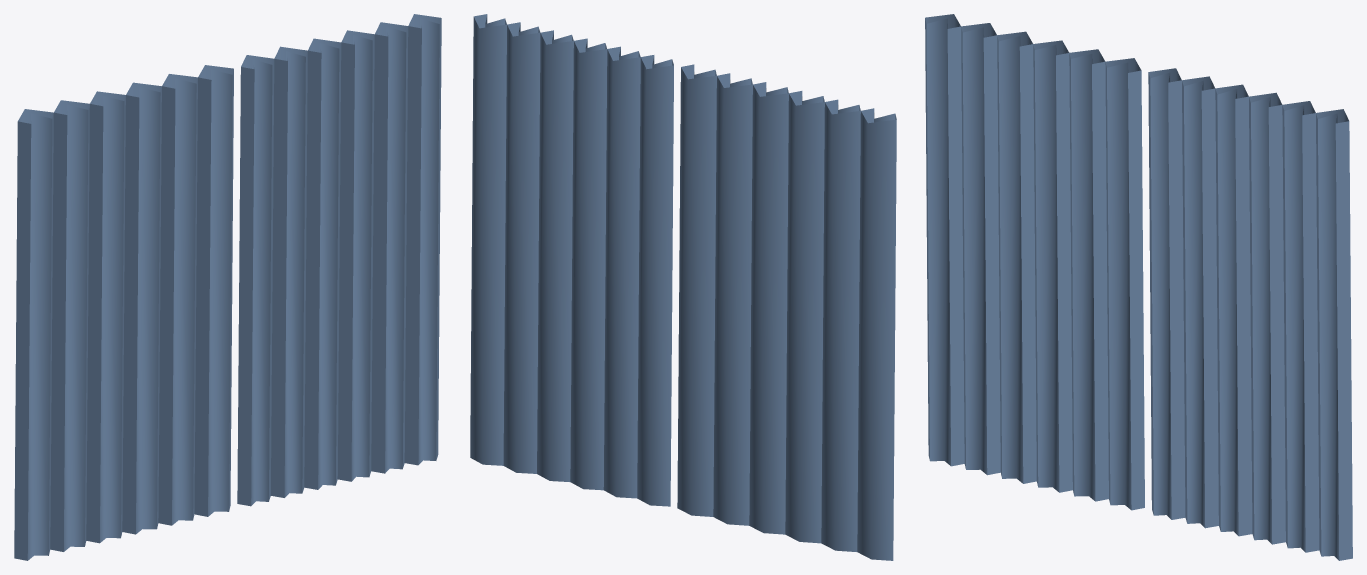
The model's file is Collider_Curtain.fbx.
The picture shows the model from 3 angles, left to right: view 1: azimuth 30°, elevation 25°; view 2: azimuth 150°, elevation 25°; view 3: azimuth 330°, elevation 25°; orthographic projection.
Parts seen in each view (by area): view 1: Collider_Curtain; view 2: Collider_Curtain; view 3: Collider_Curtain.
Boxes of the visible parts, box(x1,y1,x2,y2) form: Collider_Curtain: box(14, 14, 441, 560); Collider_Curtain: box(470, 14, 896, 560); Collider_Curtain: box(925, 14, 1352, 560).
Size of the model in its own units: 305 by 302 by 21.12.
